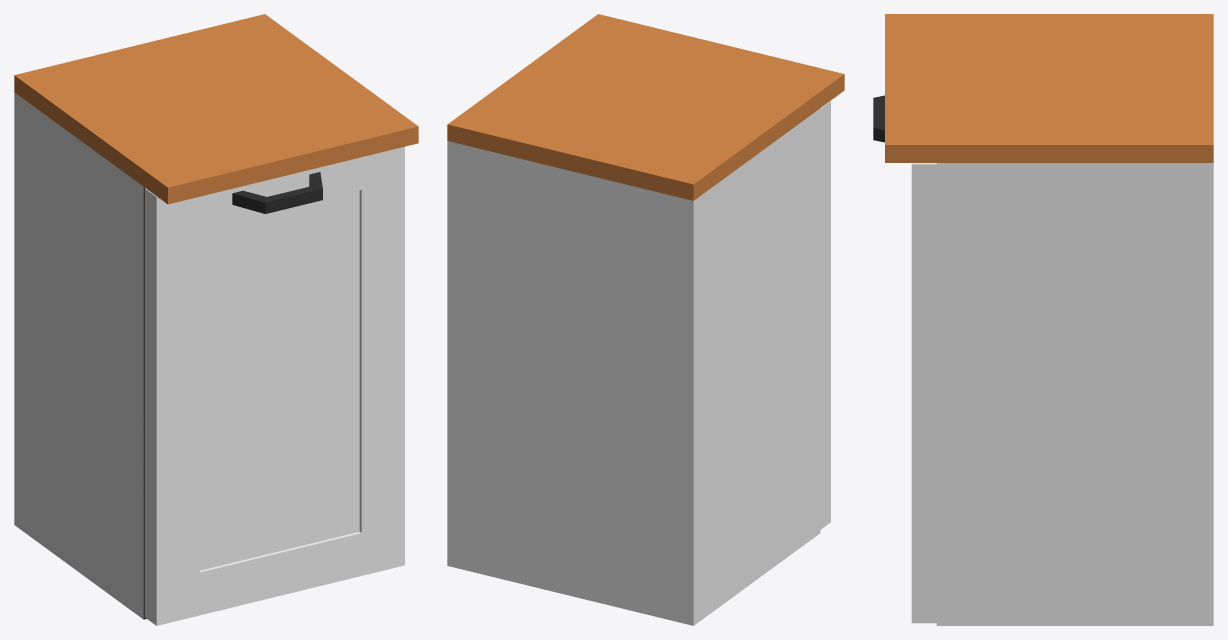
Rendered from Kitchen_Cabinet_1A.fbx.
The picture shows the model from 3 angles, left to right: view 1: azimuth 30°, elevation 25°; view 2: azimuth 150°, elevation 25°; view 3: azimuth 270°, elevation 25°; orthographic projection. The views are drawn at different scales.
Parts seen in each view (by area): view 1: polySurface953; view 2: polySurface953; view 3: polySurface953.
Part boxes in pixels (<box>): polySurface953: <box>14,14,418,625</box>; polySurface953: <box>447,14,844,625</box>; polySurface953: <box>873,14,1213,625</box>.
Bounding box in the file's own units: 0.7792 × 1.34 × 0.8565.
Materials: 1 (1 with a texture image).
